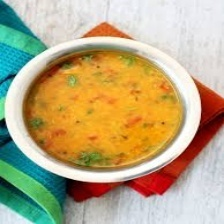dal: (22, 50, 186, 169)
